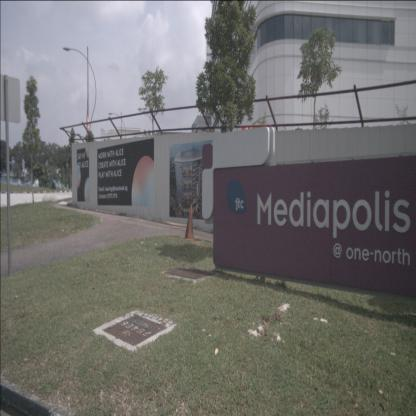cone: (183, 204, 196, 241)
